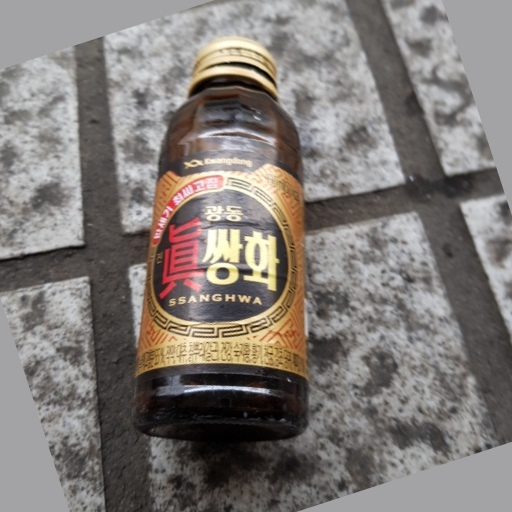Glass_3: (134, 38, 313, 441)
